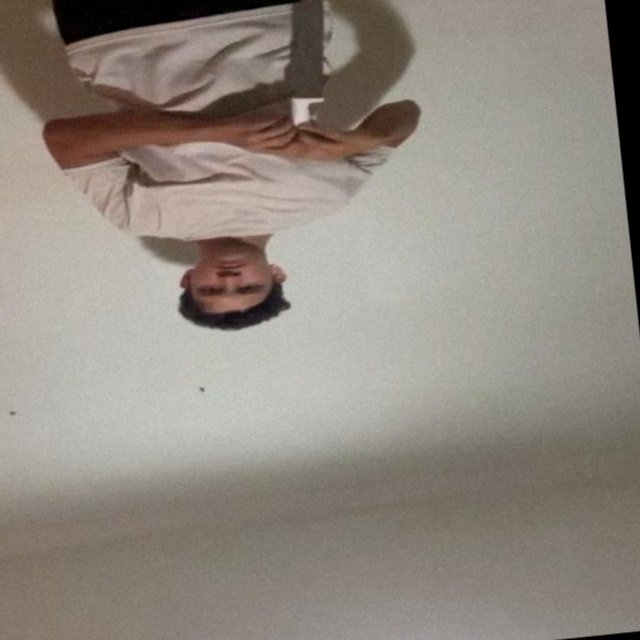Sharp-Object: (275, 0, 337, 100)
